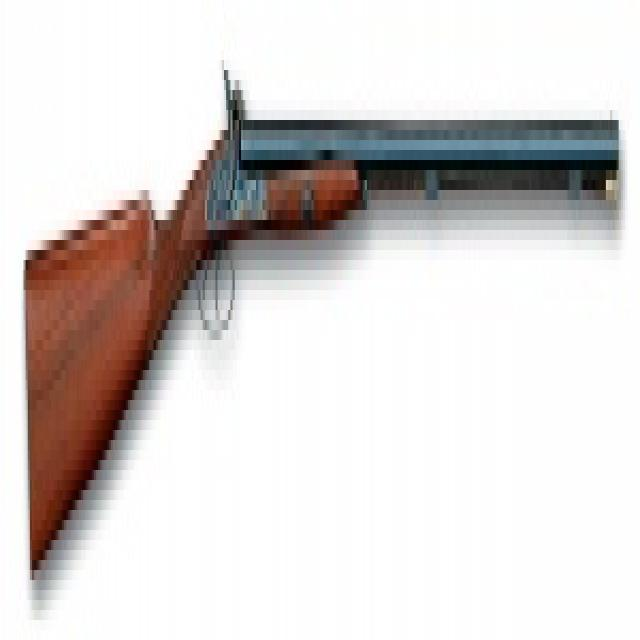rifle: (20, 83, 630, 592)
